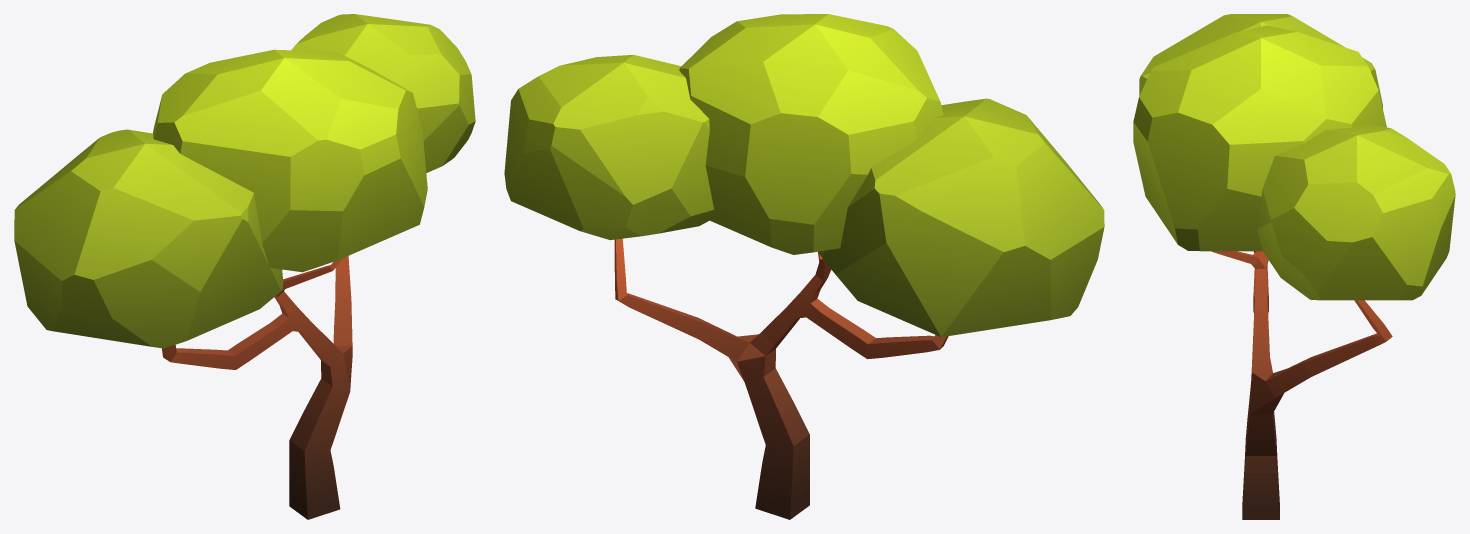
The picture shows the model from 3 angles, left to right: view 1: azimuth 30°, elevation 25°; view 2: azimuth 150°, elevation 25°; view 3: azimuth 270°, elevation 25°; orthographic projection. The views are drawn at different scales.
Visible parts, largest first — view 1: 3.001; view 2: 3.001; view 3: 3.001.
Boxes of the visible parts, x1,y1,x2,y2 form: 3.001: [14, 14, 475, 519]; 3.001: [504, 14, 1104, 519]; 3.001: [1133, 14, 1455, 519].
Bounding box in the file's own units: 6.01 × 5.55 × 3.51.
Materials: 1 (1 with a texture image).
